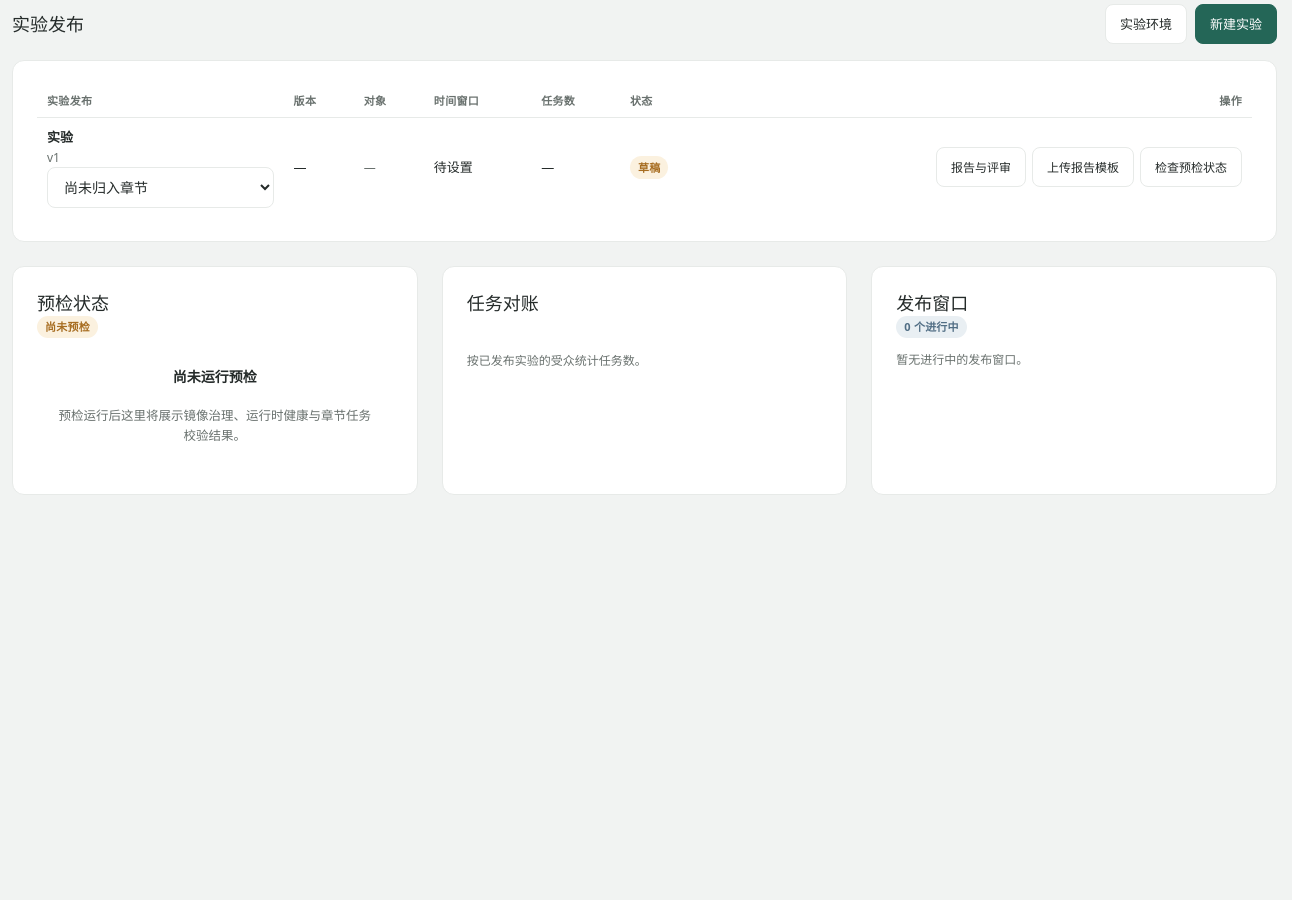
Test: reuses an already published template's precheck without sending a conflicting command
Click the button "检查预检状态". click: [1191, 167]
box: [1140,147,1242,187]
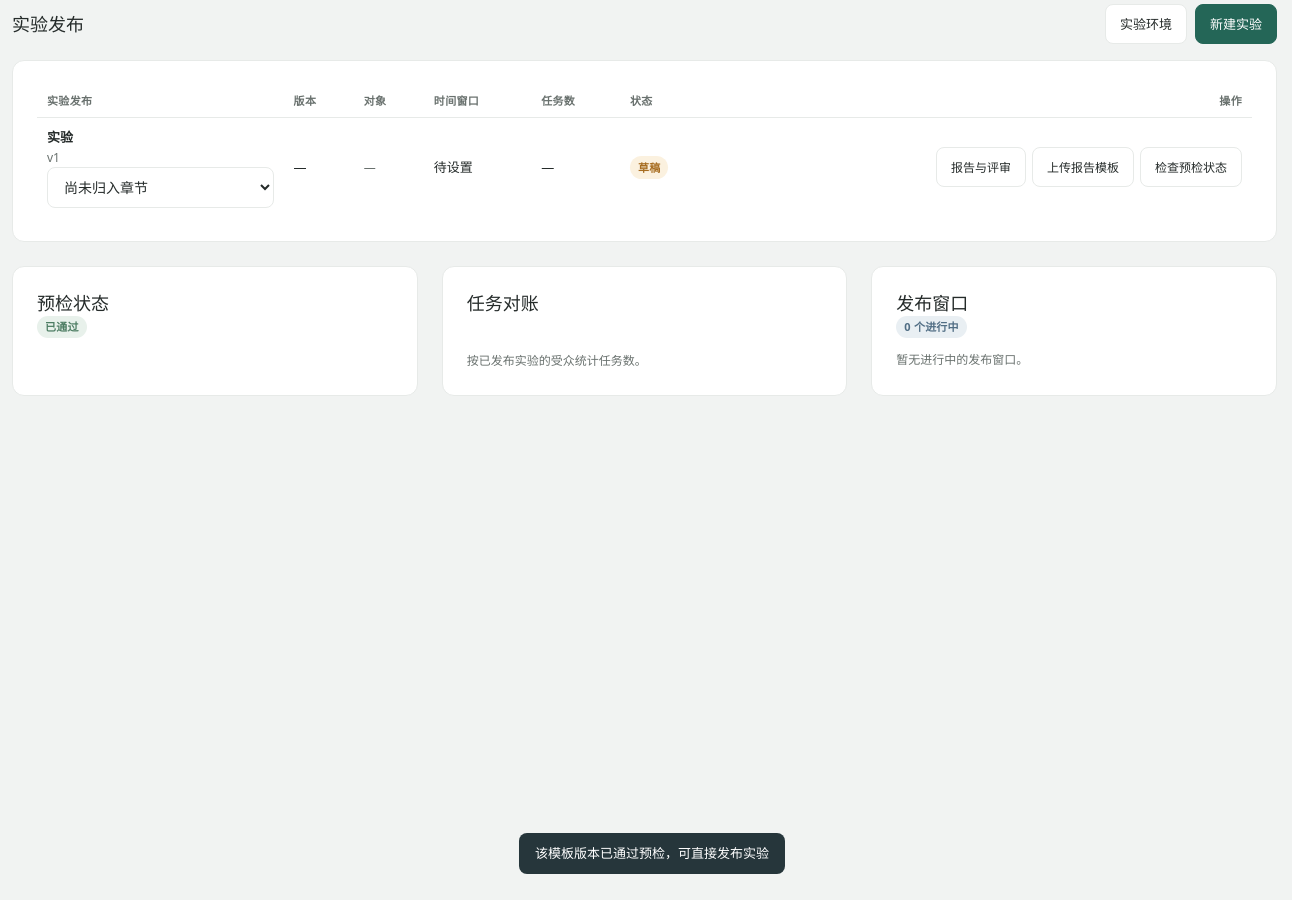
Expected: the text "该模板版本已通过预检，可直接发布实验" is shown, [519,833,785,874]
